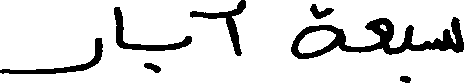ا: (225, 0, 242, 57), (110, 4, 123, 49)
ب: (141, 32, 191, 73), (402, 23, 413, 81)
ة: (290, 2, 344, 59)
ر: (0, 36, 102, 75)
س: (432, 15, 462, 54)
ع: (365, 15, 394, 55)
